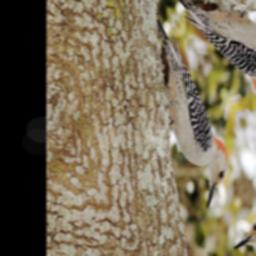Woodpecker: (112, 1, 256, 218)
